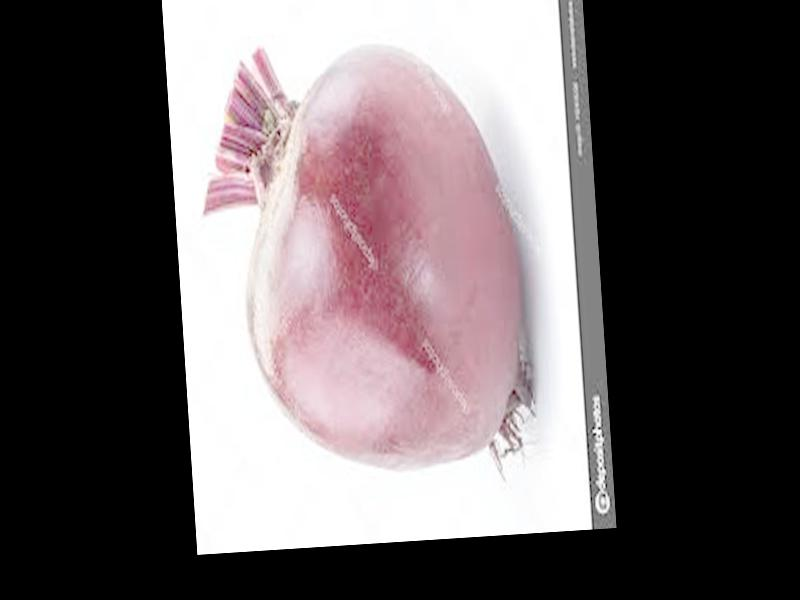Beet: (197, 35, 533, 480)
